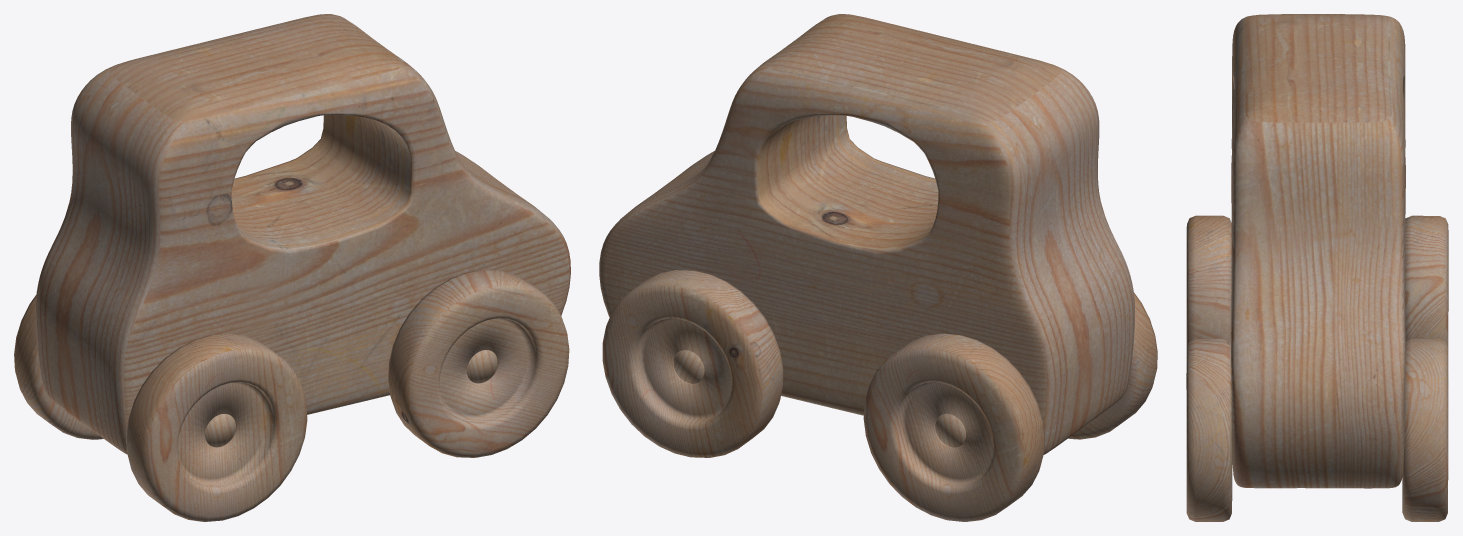
File: MOD_ART_ThreeRooms.fbx_Wooden_toy_car.fbx
3 renders of one model, left to right at view 1: azimuth 30°, elevation 25°; view 2: azimuth 150°, elevation 25°; view 3: azimuth 270°, elevation 25°, orthographic. The views are drawn at different scales.
Parts seen in each view (by area): view 1: Car, Wheel4, Wheel3, Wheel2, Dowel3, Dowel4; view 2: Car, Wheel2, Wheel1, Wheel3, Dowel1, Dowel2; view 3: Car, Wheel4, Wheel1, Wheel3, Wheel2.
Part boxes in pixels (bbox=[...]): Car: bbox=[35, 14, 570, 454]; Wheel4: bbox=[388, 270, 569, 457]; Wheel3: bbox=[126, 334, 307, 521]; Wheel2: bbox=[14, 294, 103, 439]; Dowel3: bbox=[205, 414, 235, 447]; Dowel4: bbox=[467, 350, 497, 383]; Car: bbox=[599, 14, 1135, 454]; Wheel2: bbox=[863, 333, 1044, 521]; Wheel1: bbox=[602, 270, 783, 457]; Wheel3: bbox=[1068, 292, 1157, 439]; Dowel1: bbox=[673, 350, 704, 383]; Dowel2: bbox=[935, 413, 965, 447]; Car: bbox=[1231, 14, 1405, 488]; Wheel4: bbox=[1186, 338, 1232, 521]; Wheel1: bbox=[1402, 338, 1448, 521]; Wheel3: bbox=[1186, 215, 1231, 389]; Wheel2: bbox=[1405, 215, 1448, 346].
Bounding box in the file's own units: 11.69 × 9.58 × 6.01.
Materials: 5 (5 with a texture image).
